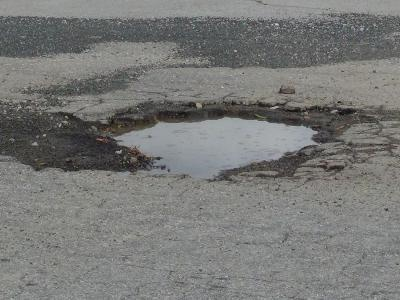pothole: (90, 92, 357, 181)
